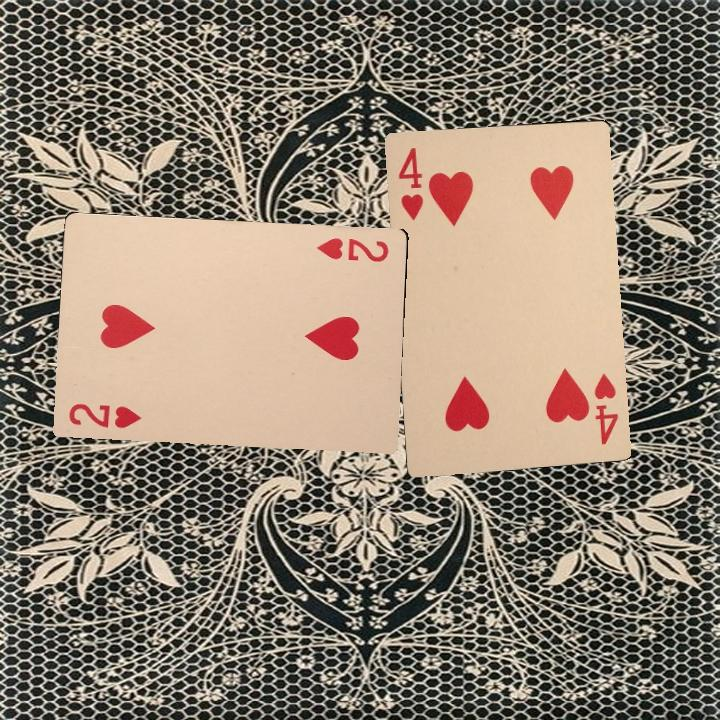2h: (65, 399, 144, 431), (314, 234, 391, 265)
4h: (394, 143, 426, 223), (590, 370, 621, 447)
